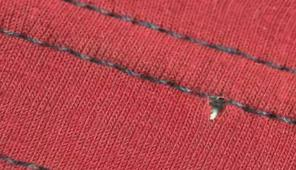hole: (205, 100, 228, 123)
